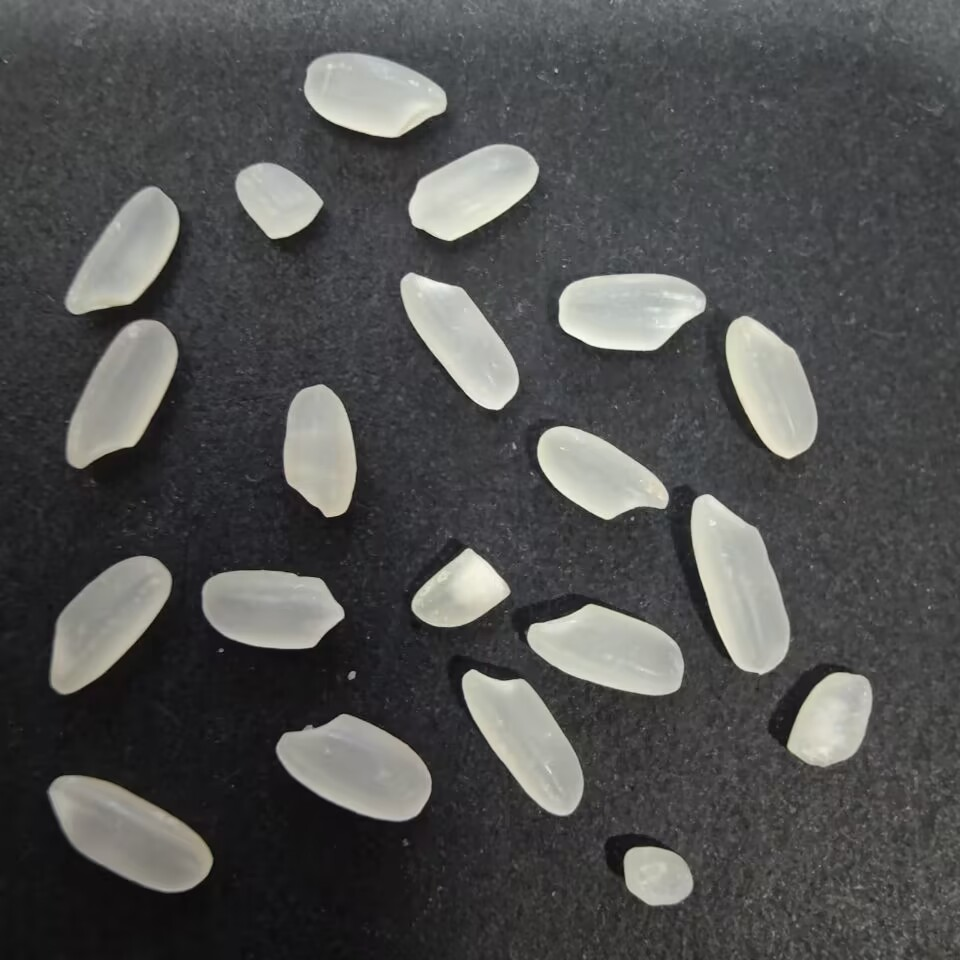broken: (404, 539, 514, 637), (782, 669, 879, 774), (232, 159, 328, 244), (614, 840, 699, 911)
rice: (43, 770, 219, 895), (685, 490, 794, 680), (459, 664, 589, 819), (44, 551, 178, 700), (61, 313, 182, 477), (270, 708, 435, 826), (397, 267, 521, 414), (56, 181, 185, 322), (521, 601, 687, 700), (401, 135, 545, 245), (725, 308, 823, 460), (299, 46, 454, 142), (195, 566, 351, 659), (554, 266, 713, 355), (533, 422, 672, 523), (279, 380, 359, 522)
